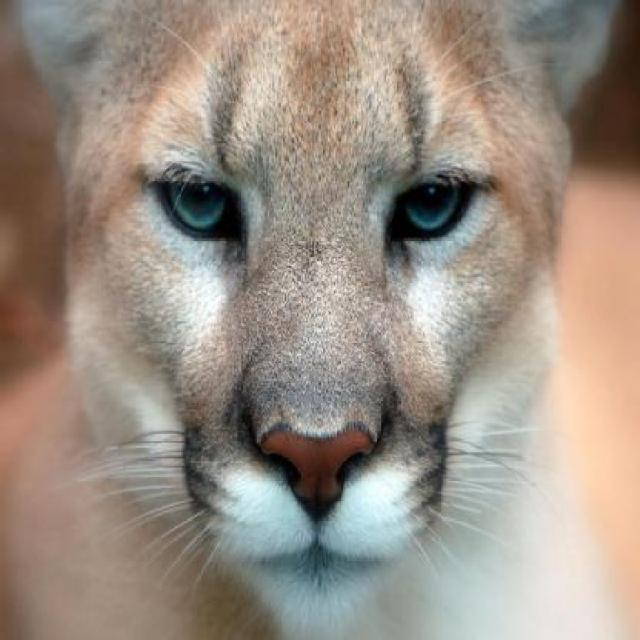Lion: (31, 9, 597, 638)
